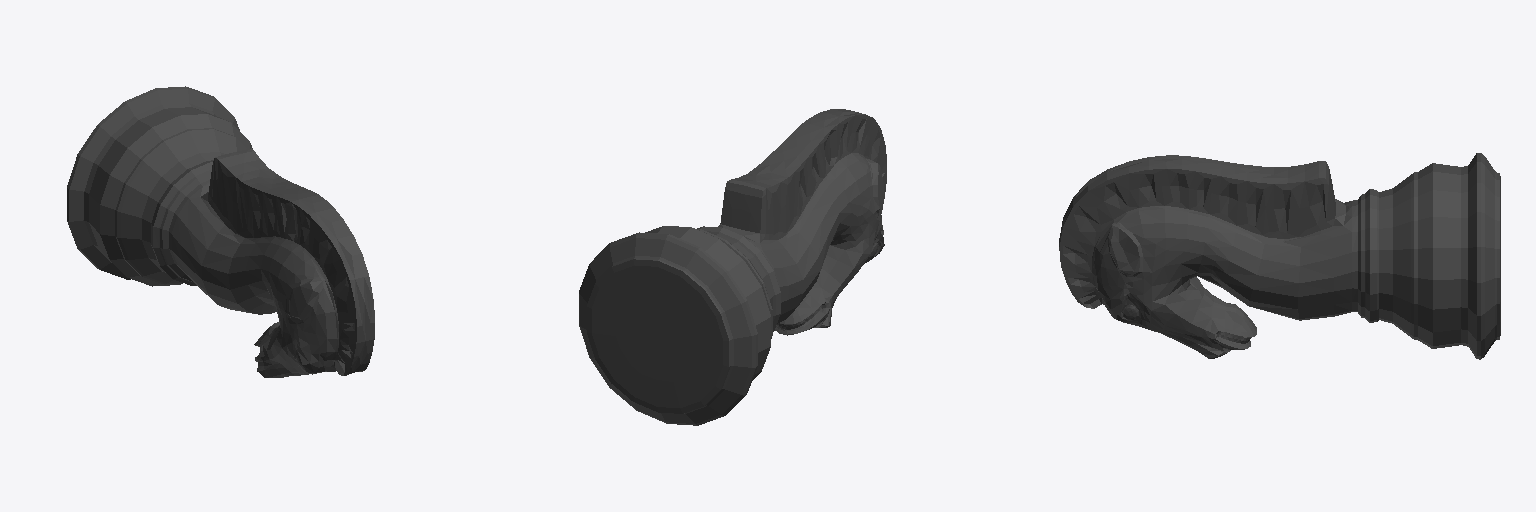
3 renders of one model, left to right at view 1: azimuth 30°, elevation 25°; view 2: azimuth 150°, elevation 25°; view 3: azimuth 270°, elevation 25°, orthographic.
Parts seen in each view (by area): view 1: 12936_Wooden_Chess_Knight_Side_B_V2_l3; view 2: 12936_Wooden_Chess_Knight_Side_B_V2_l3; view 3: 12936_Wooden_Chess_Knight_Side_B_V2_l3.
Part boxes in pixels (left/top/right/bottom): 12936_Wooden_Chess_Knight_Side_B_V2_l3: left=67, top=86, right=374, bottom=377; 12936_Wooden_Chess_Knight_Side_B_V2_l3: left=579, top=109, right=886, bottom=425; 12936_Wooden_Chess_Knight_Side_B_V2_l3: left=1059, top=153, right=1500, bottom=359.
Bounding box in the file's own units: 1.14 × 1.16 × 2.45.
1 materials, 1 textured.